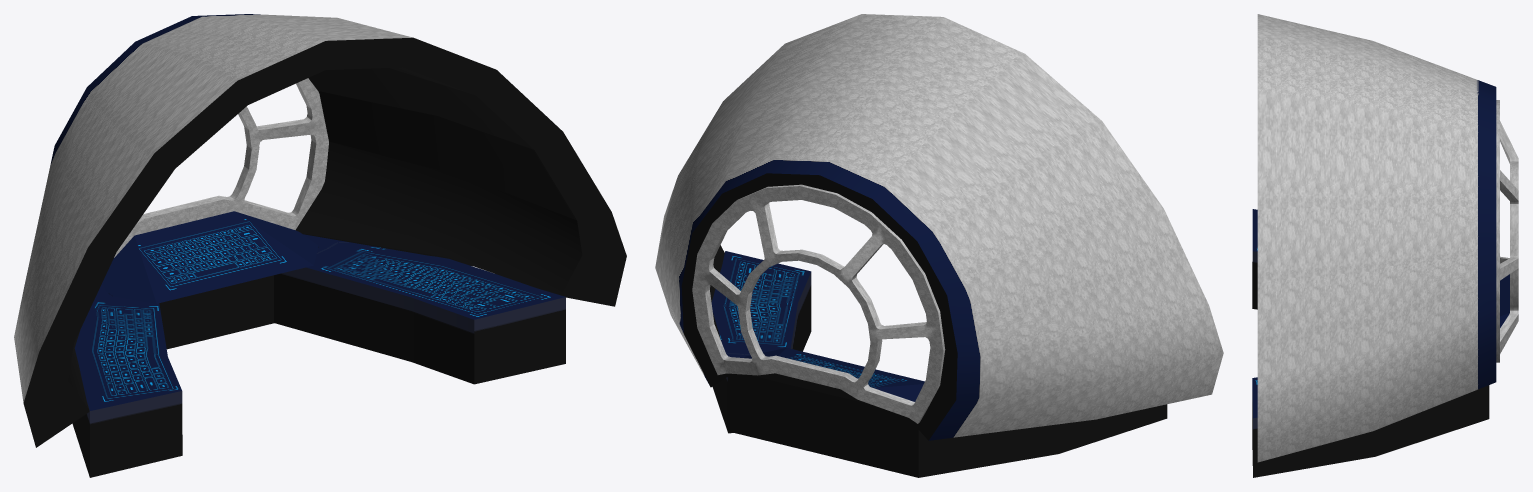
File: cockpit.fbx
3 renders of one model, left to right at view 1: azimuth 30°, elevation 25°; view 2: azimuth 150°, elevation 25°; view 3: azimuth 270°, elevation 25°, orthographic. The views are drawn at different scales.
Parts seen in each view (by area): view 1: pCylinder14, pCube4, pCube1, pCylinder13; view 2: pCylinder14, pCylinder13, pCube4, pCube1; view 3: pCylinder14, pCube4, pCylinder13, pCube1.
Boxes of the visible parts, box(x1,y1,x2,y2) form: pCylinder14: box(14, 14, 626, 447); pCube4: box(72, 234, 565, 477); pCube1: box(101, 211, 318, 349); pCylinder13: box(114, 78, 328, 257); pCylinder14: box(655, 14, 1223, 440); pCylinder13: box(692, 184, 945, 423); pCube4: box(711, 251, 1167, 477); pCube1: box(727, 348, 924, 477); pCylinder14: box(1257, 14, 1496, 462); pCube4: box(1252, 209, 1489, 477); pCylinder13: box(1496, 100, 1518, 362); pCube1: box(1488, 274, 1509, 416).
Bounding box in the file's own units: 21.77 × 13.06 × 9.33.
